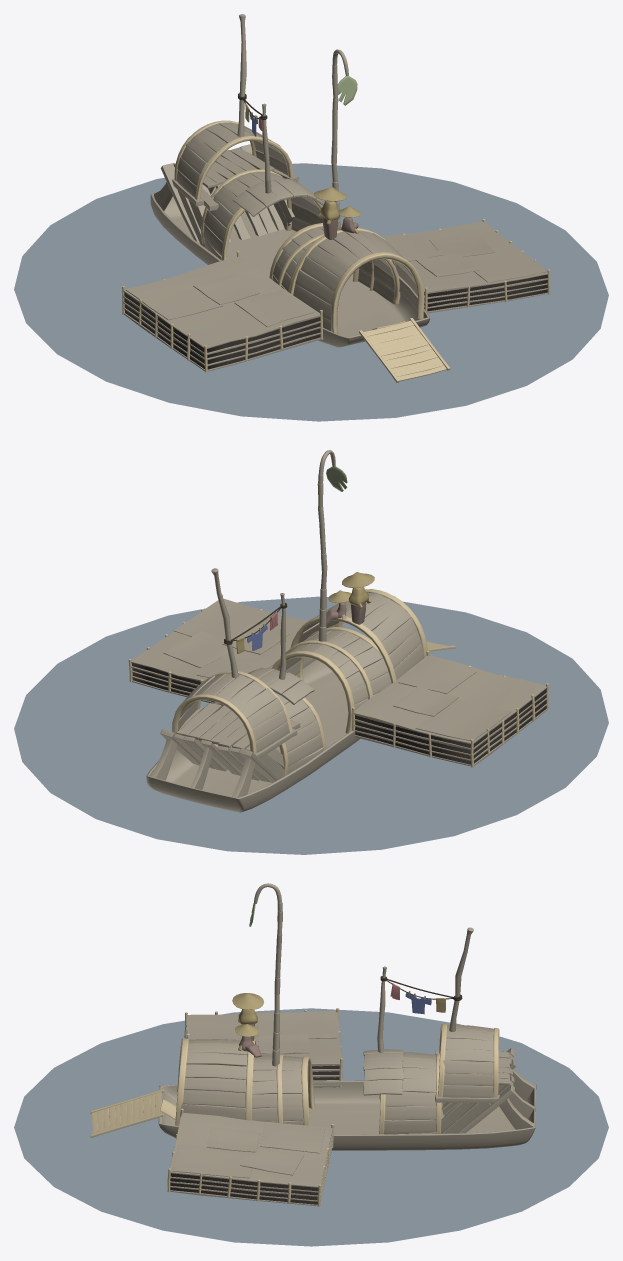
The model's file is boat_scene.fbx.
3 renders of one model, top to bottom at view 1: azimuth 30°, elevation 25°; view 2: azimuth 150°, elevation 25°; view 3: azimuth 270°, elevation 25°, orthographic. The views are drawn at different scales.
Visible parts, largest first — view 1: pCube52; view 2: pCube52; view 3: pCube52.
Part boxes in pixels (x1,y1,x2,y2): pCube52: (14, 14, 608, 421); pCube52: (14, 450, 608, 854); pCube52: (14, 883, 608, 1246).
Size of the model in its own units: 1248 by 610 by 1317.
